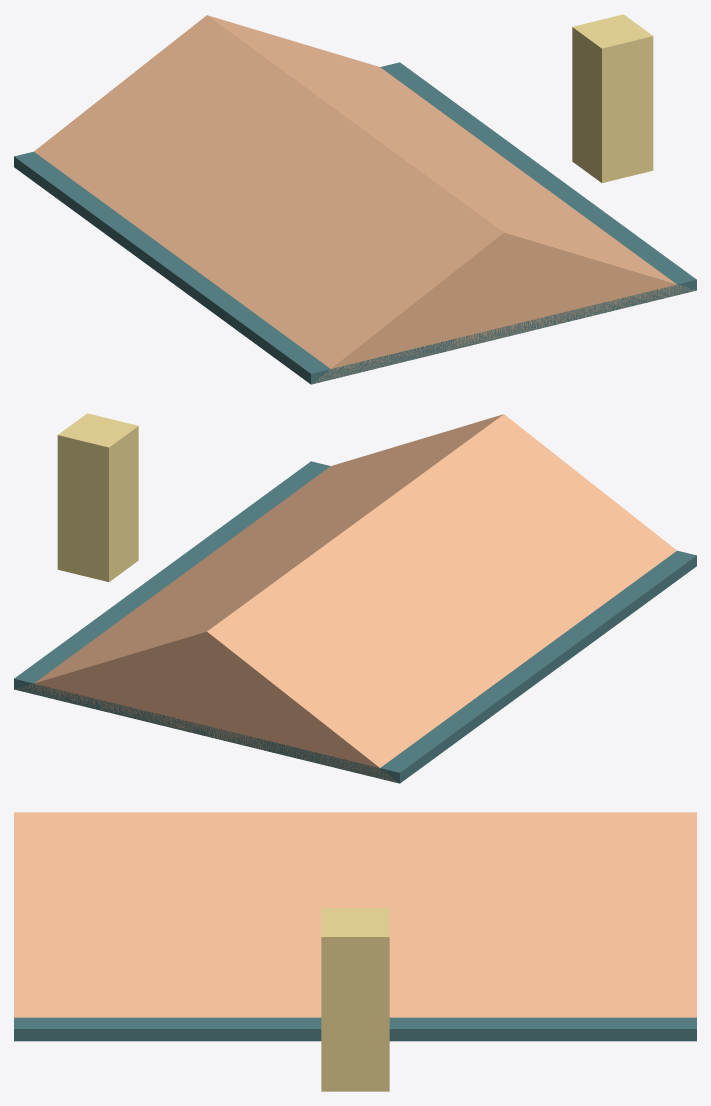
Rendered from rescue_camp.glb.
3 renders of one model, top to bottom at view 1: azimuth 30°, elevation 25°; view 2: azimuth 150°, elevation 25°; view 3: azimuth 270°, elevation 25°, orthographic. The views are drawn at different scales.
Parts seen in each view (by area): view 1: rescue_camp__tent, rescue_camp__groundsheet, rescue_camp__rescue_beacon; view 2: rescue_camp__tent, rescue_camp__groundsheet, rescue_camp__rescue_beacon; view 3: rescue_camp__tent, rescue_camp__groundsheet, rescue_camp__rescue_beacon.
Part boxes in pixels (box(x1,y1,x2,y2)): rescue_camp__tent: box(34, 15, 695, 383); rescue_camp__groundsheet: box(14, 62, 696, 384); rescue_camp__rescue_beacon: box(572, 14, 653, 182); rescue_camp__tent: box(16, 414, 676, 782); rescue_camp__groundsheet: box(14, 461, 696, 783); rescue_camp__rescue_beacon: box(57, 413, 138, 581); rescue_camp__tent: box(14, 812, 696, 1017); rescue_camp__groundsheet: box(14, 1017, 696, 1041); rescue_camp__rescue_beacon: box(321, 908, 389, 1091).
Size of the model in its own units: 3.7 by 1 by 4.
